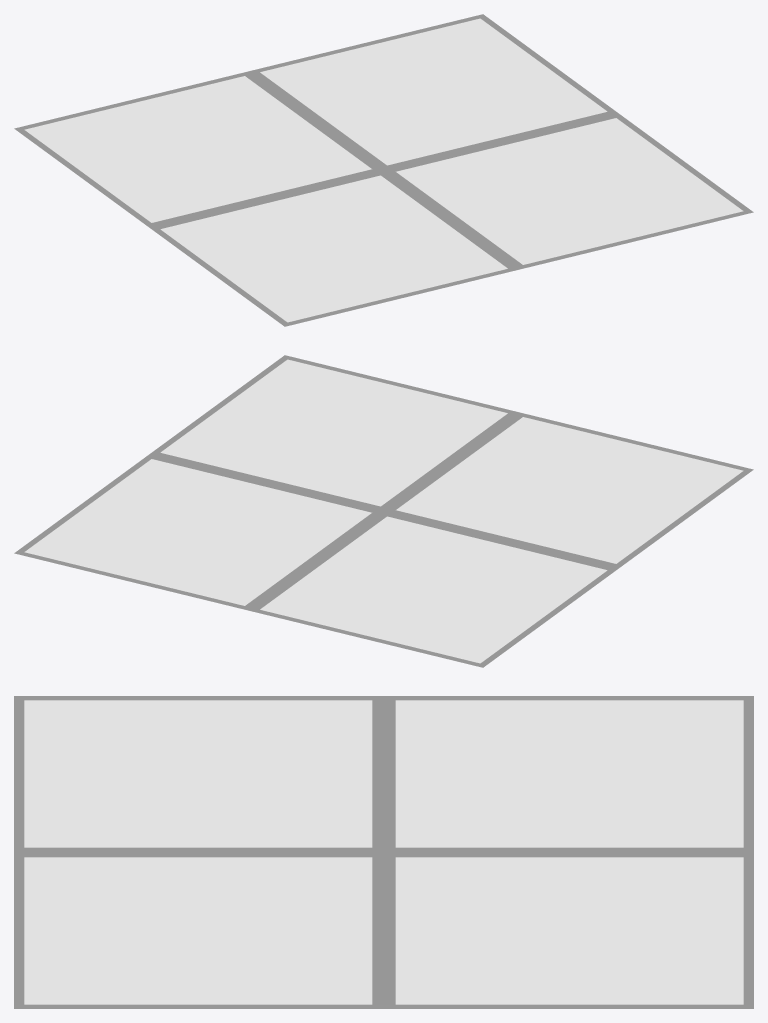
Rendered from SO_Floor_01 1.fbx.
3 views of the same model, one above another, from view 1: azimuth 30°, elevation 25°; view 2: azimuth 150°, elevation 25°; view 3: azimuth 270°, elevation 25° (orthographic). The views are drawn at different scales.
Visible parts, largest first — view 1: SO_Floor_01; view 2: SO_Floor_01; view 3: SO_Floor_01.
Boxes of the visible parts, bbox=[...] form: SO_Floor_01: bbox=[14, 14, 753, 326]; SO_Floor_01: bbox=[14, 355, 753, 667]; SO_Floor_01: bbox=[14, 696, 753, 1008].
Size of the model in its own units: 0.05 by 8.15e-09 by 0.05.
Materials: 1 (1 with a texture image).
